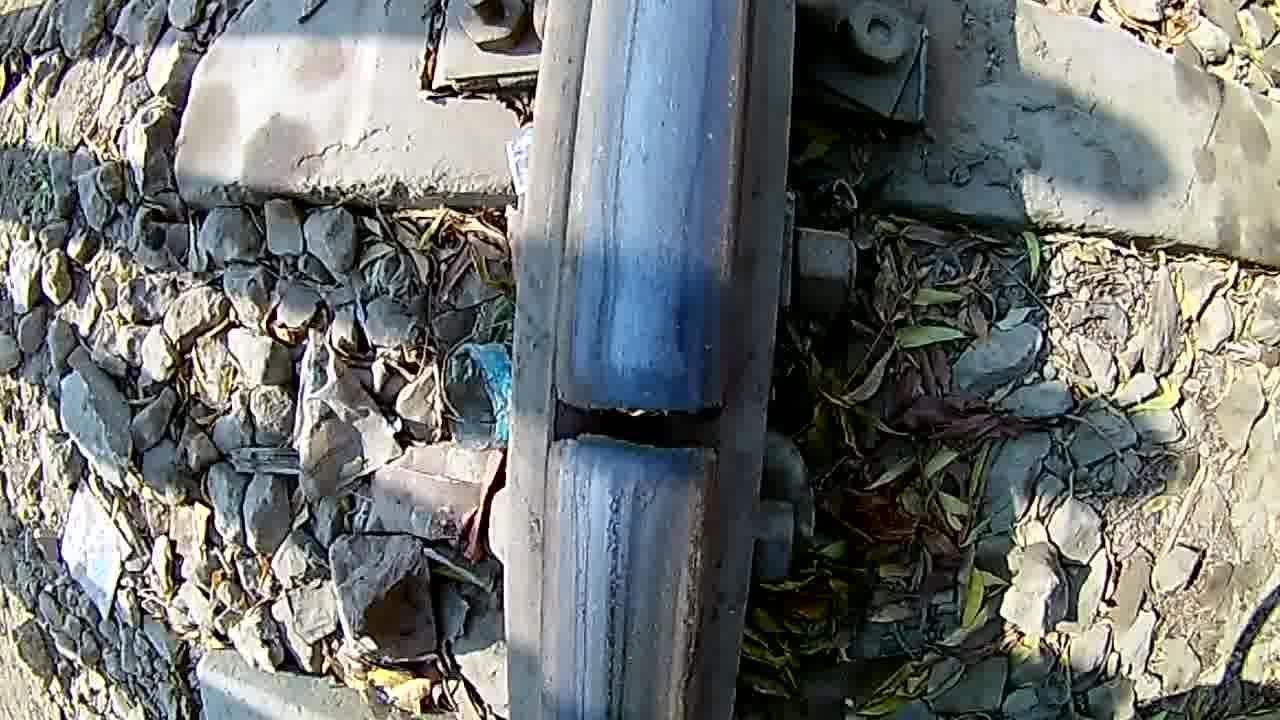crack: (524, 323, 747, 552)
